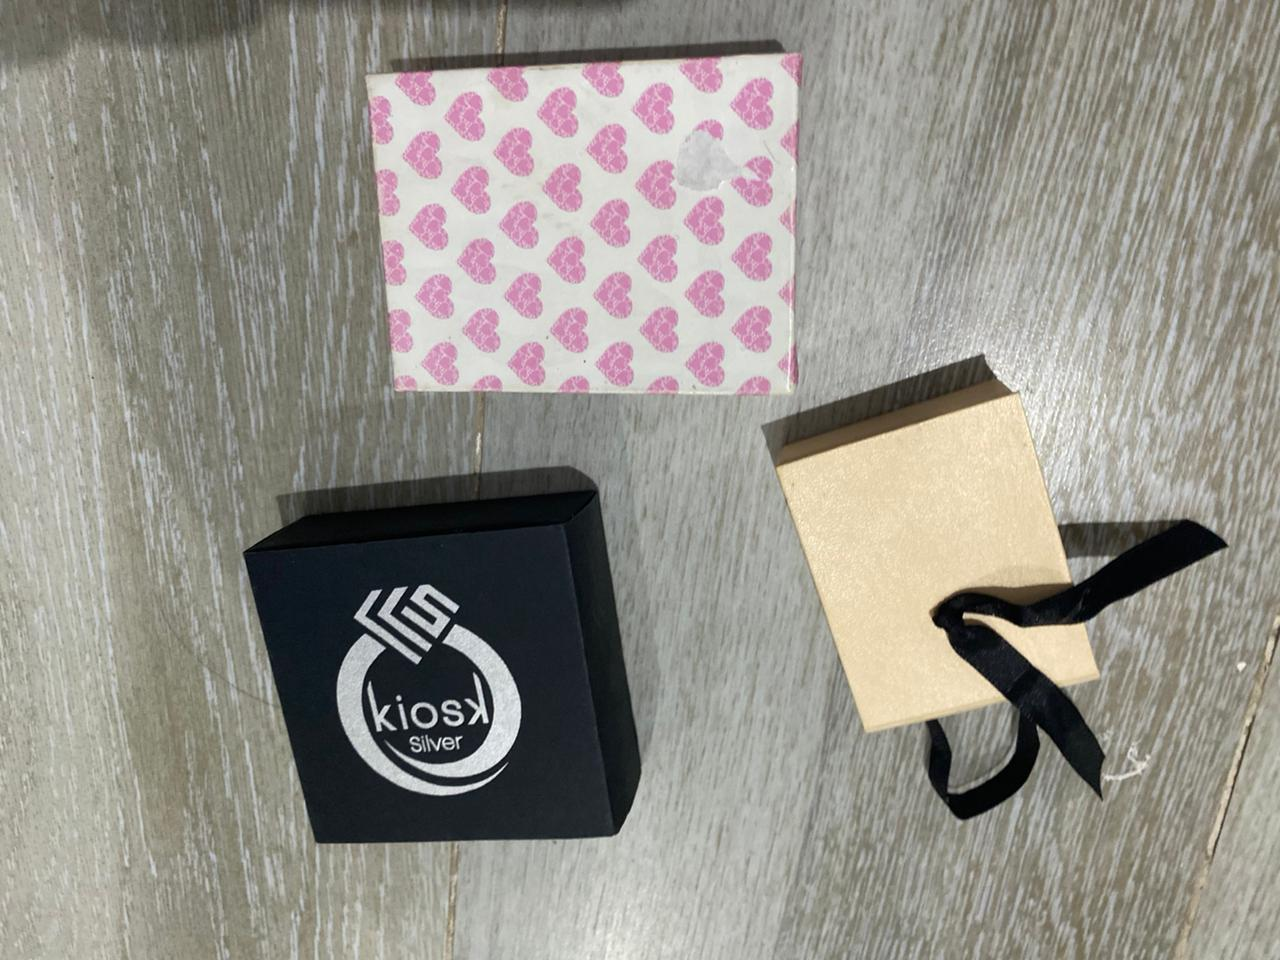Pink Box: (358, 52, 805, 405)
Red Box: (241, 488, 655, 849)
Yellow Box: (770, 377, 1105, 742)
